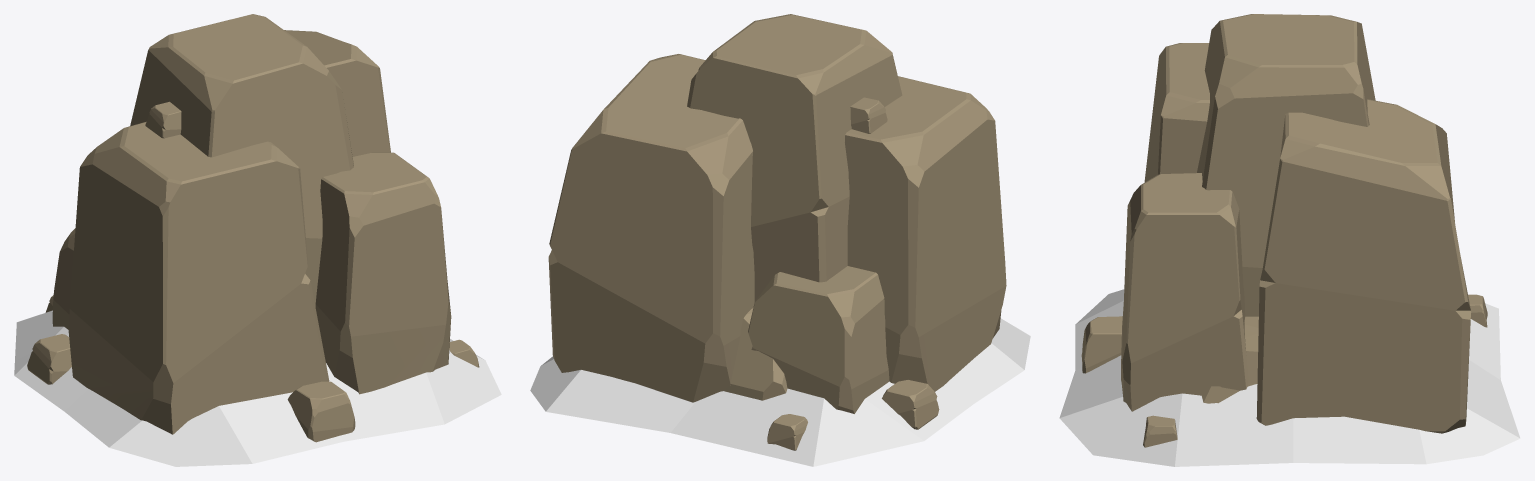
The model's file is HillBox_3.fbx.
3 renders of one model, left to right at view 1: azimuth 30°, elevation 25°; view 2: azimuth 150°, elevation 25°; view 3: azimuth 270°, elevation 25°, orthographic. The views are drawn at different scales.
Parts seen in each view (by area): view 1: New Hill.003; view 2: New Hill.003; view 3: New Hill.003.
Part boxes in pixels (left/top/right/bottom): New Hill.003: left=14, top=14, right=501, bottom=466; New Hill.003: left=530, top=14, right=1030, bottom=466; New Hill.003: left=1059, top=14, right=1520, bottom=466.
Size of the model in its own units: 432 by 355 by 447.
